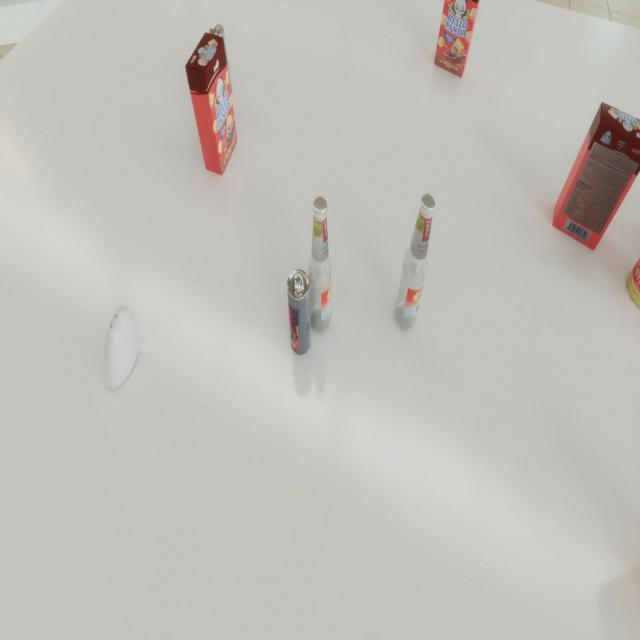Bottle: (394, 194, 435, 331), (307, 196, 333, 334)
HelloPanda: (552, 101, 640, 250), (185, 32, 238, 176), (434, 0, 488, 78)
Rita_zero_sugar: (287, 269, 311, 355), (209, 24, 232, 98)
Salt: (104, 306, 138, 388)
